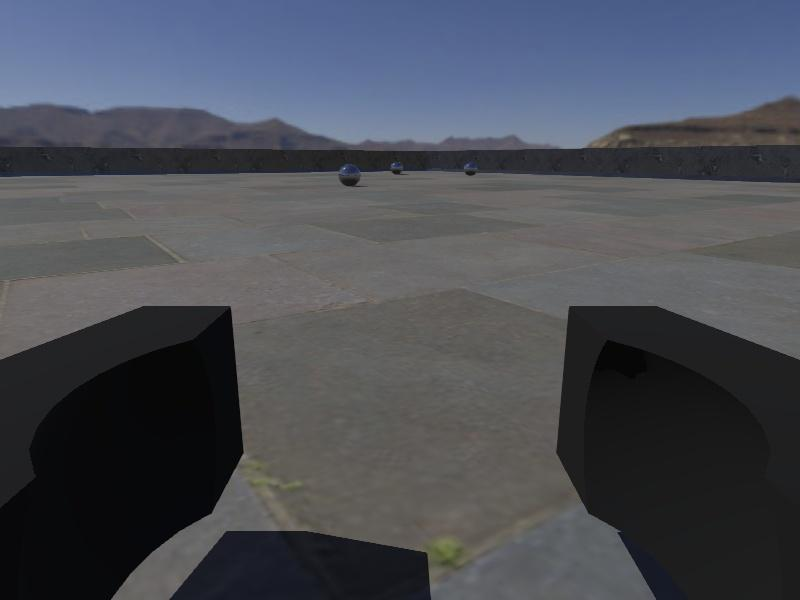steel ball: (337, 162, 362, 187), (462, 161, 478, 176), (389, 160, 404, 175)
